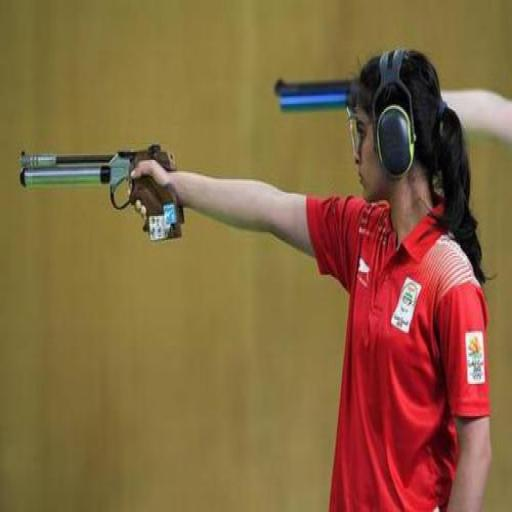shooting: (128, 45, 496, 510)
